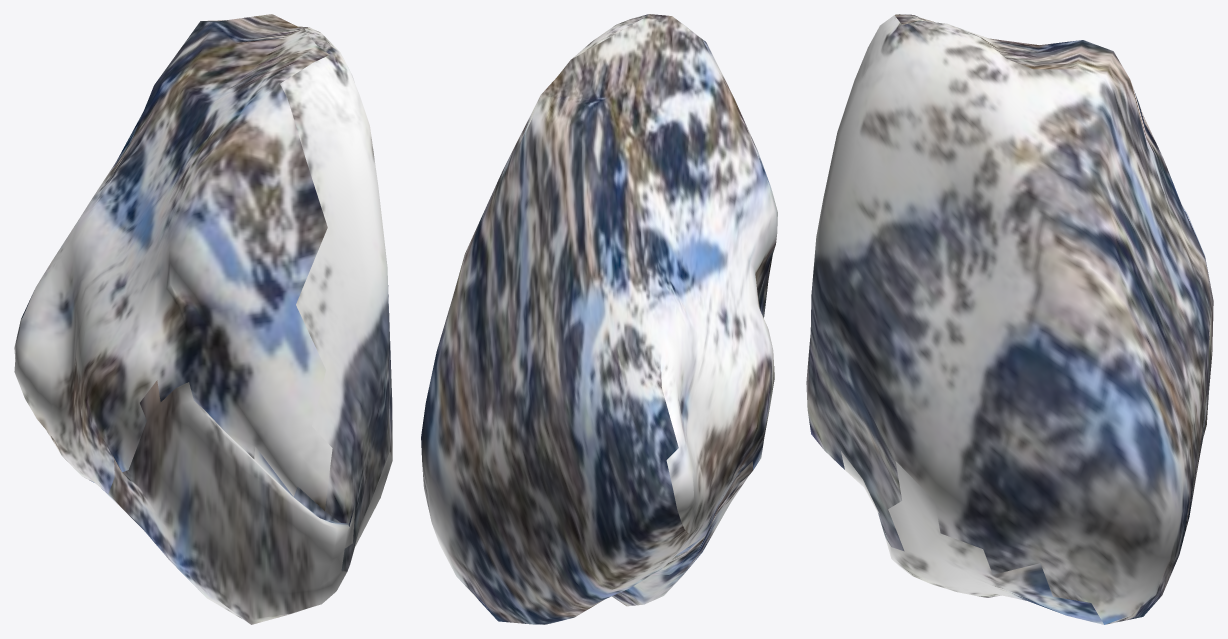
File: rocap1.obj
The picture shows the model from 3 angles, left to right: view 1: azimuth 30°, elevation 25°; view 2: azimuth 150°, elevation 25°; view 3: azimuth 270°, elevation 25°; orthographic projection. The views are drawn at different scales.
Visible parts, largest first — view 1: default; view 2: default; view 3: default.
Part boxes in pixels (bbox=[...]): default: bbox=[14, 14, 392, 624]; default: bbox=[421, 14, 777, 624]; default: bbox=[806, 14, 1213, 624].
Size of the model in its own units: 71.77 by 129 by 80.84.
Materials: 1 (1 with a texture image).
